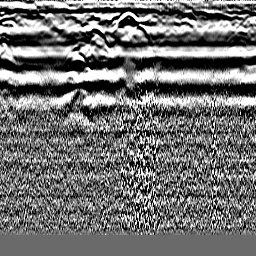cavity: (117, 9, 139, 30)
